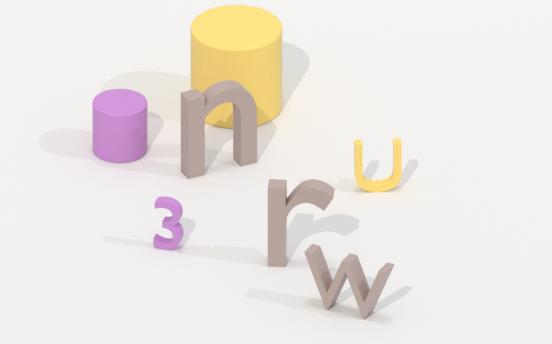4: (149, 193, 191, 258)
R: (266, 172, 337, 277)
n: (176, 78, 260, 177)
tru: (185, 2, 288, 131), (87, 83, 152, 171)
u: (352, 137, 406, 197)
w: (303, 236, 399, 322)
